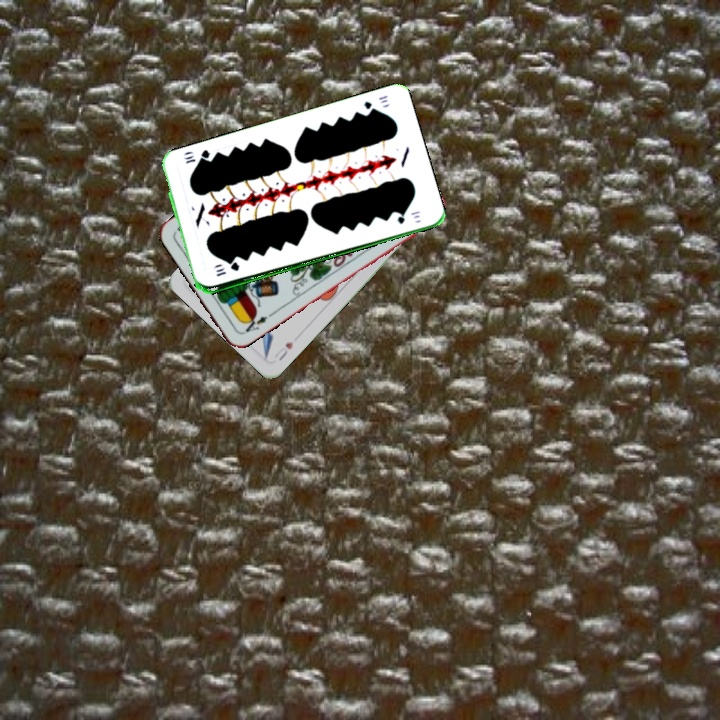EA: (239, 311, 270, 336)
G10: (359, 91, 390, 115), (212, 260, 242, 279)
HU: (270, 337, 296, 363)
